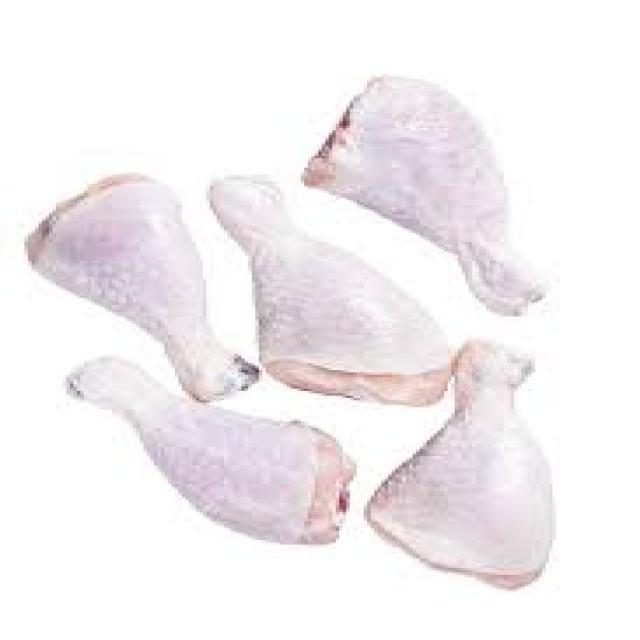leg: (304, 72, 554, 310), (74, 352, 356, 552), (202, 175, 444, 399), (18, 175, 242, 386), (374, 339, 567, 582)
